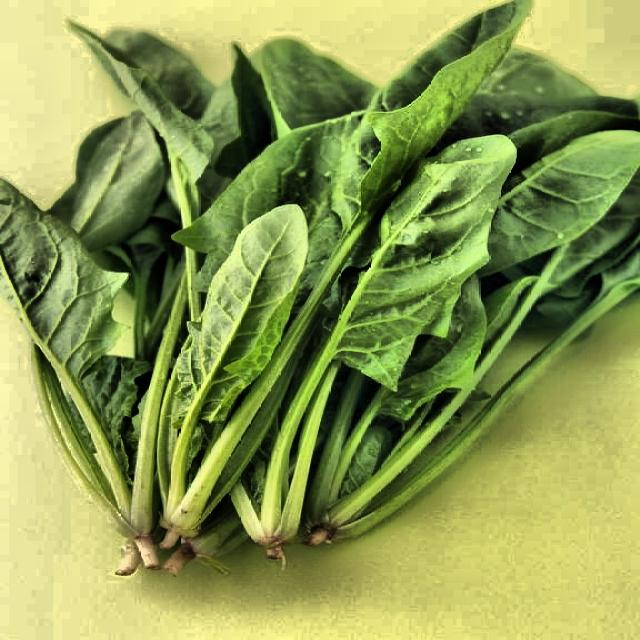spinach: (23, 27, 580, 579)
